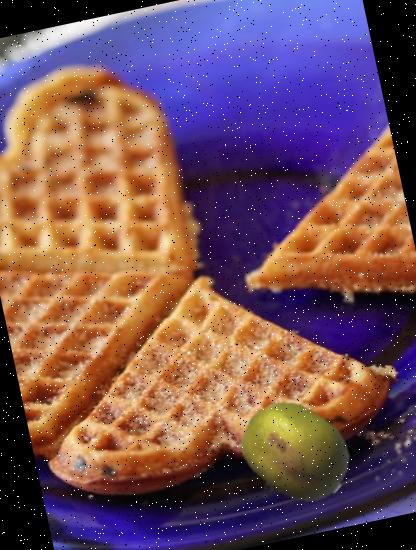Pomelo: (230, 385, 363, 518)
